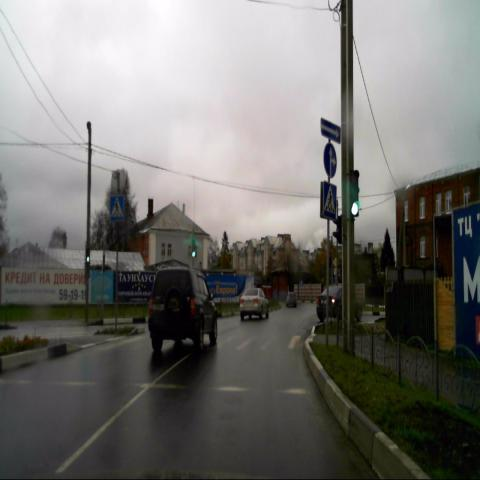5_7_1: (320, 117, 341, 144)
